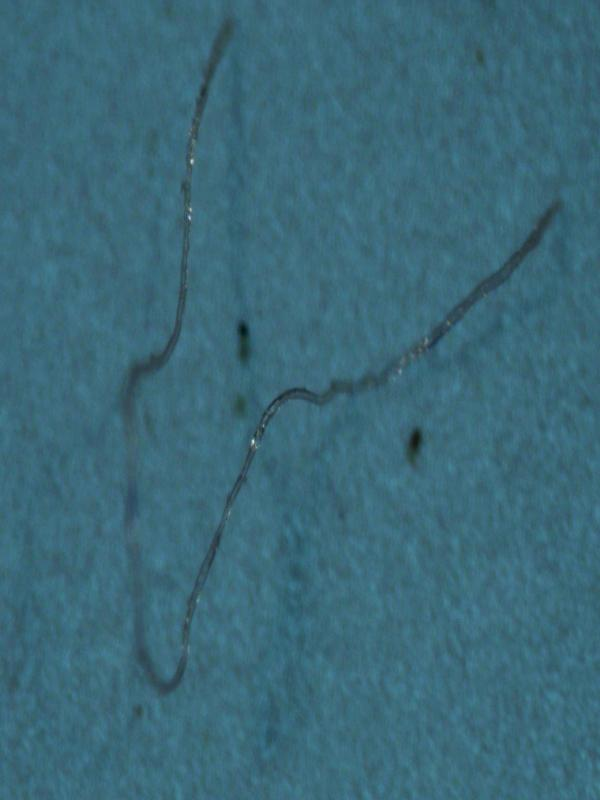microplastic: (118, 18, 562, 700)
